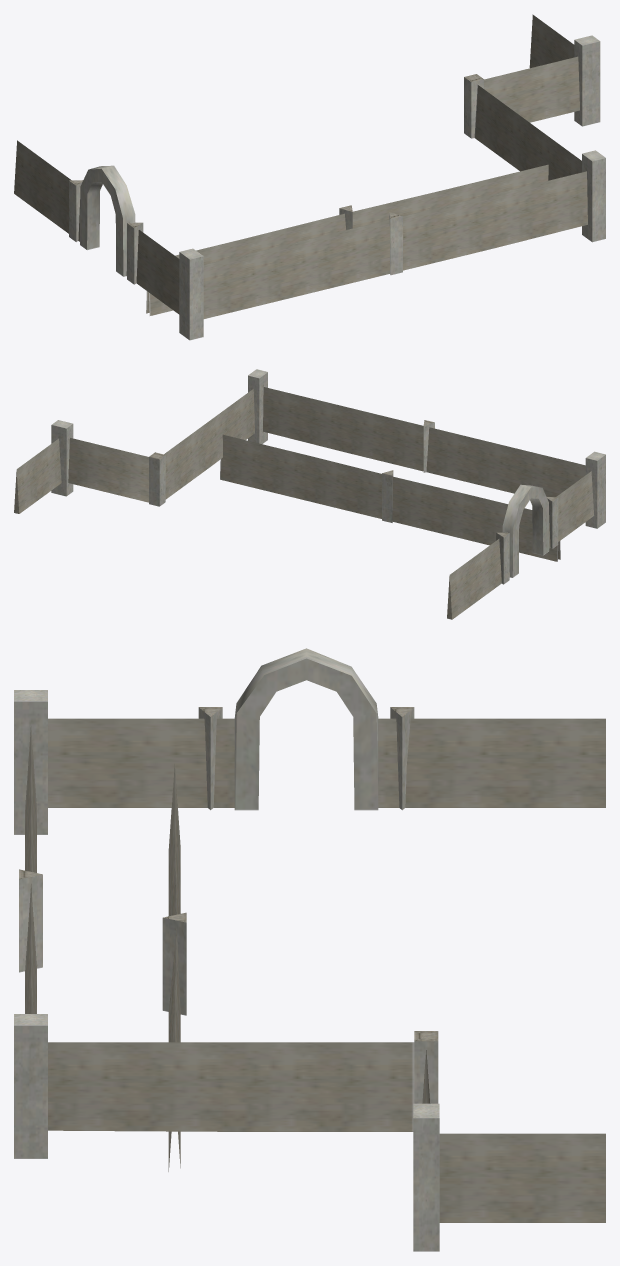
File: poi_all_corral_half_64x64_s03_l1.fbx
The picture shows the model from 3 angles, top to bottom: view 1: azimuth 30°, elevation 25°; view 2: azimuth 150°, elevation 25°; view 3: azimuth 270°, elevation 25°; orthographic projection. The views are drawn at different scales.
Parts seen in each view (by area): view 1: mesh_node; view 2: mesh_node; view 3: mesh_node.
Boxes of the visible parts, left/top/right/bottom form: mesh_node: left=14, top=14, right=605, bottom=340; mesh_node: left=14, top=369, right=605, bottom=619; mesh_node: left=14, top=648, right=605, bottom=1251.
Bounding box in the file's own units: 42.26 × 9 × 24.71.
